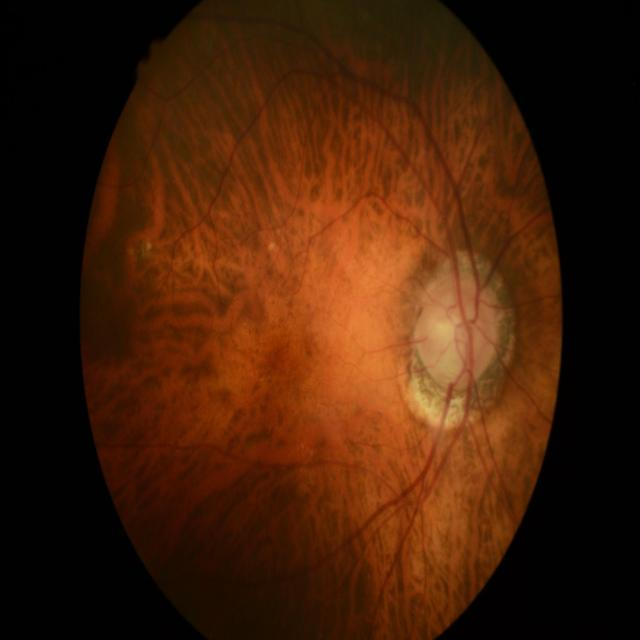cup: (428, 291, 482, 380)
disk: (415, 274, 498, 386)
